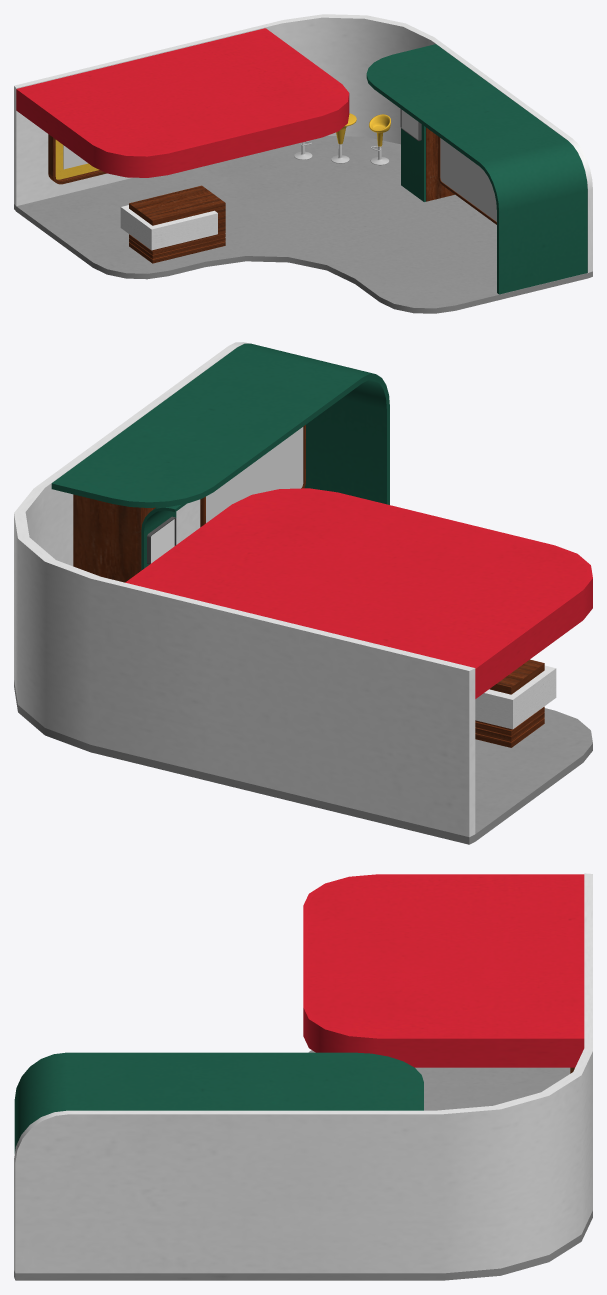
The model's file is booth_REVISI.fbx.
3 views of the same model, one above another, from view 1: azimuth 30°, elevation 25°; view 2: azimuth 150°, elevation 25°; view 3: azimuth 270°, elevation 25° (orthographic). The views are drawn at different scales.
Parts seen in each view (by area): view 1: booth alas MOS ACP, atap, atap kecil, booth dinding MOS ACP, meja informasi, papan gambar MOS, Quiz, Quiz 1.3, bg gambar 1, bingkai kayu, kursi 1.2; view 2: booth dinding MOS ACP, atap, atap kecil, booth alas MOS ACP, Quiz 1.3, meja informasi, papan gambar MOS, Quiz, gambar disini; view 3: booth dinding MOS ACP, atap, atap kecil, booth alas MOS ACP.
Boxes of the visible parts, x1,y1,x2,y2 form: booth alas MOS ACP: [14, 135, 592, 313]; atap: [16, 28, 349, 177]; atap kecil: [366, 44, 587, 294]; booth dinding MOS ACP: [14, 14, 592, 272]; meja informasi: [120, 185, 225, 263]; papan gambar MOS: [440, 138, 496, 221]; Quiz: [401, 124, 425, 201]; Quiz 1.3: [426, 127, 454, 201]; bg gambar 1: [55, 140, 99, 179]; bingkai kayu: [48, 134, 106, 184]; kursi 1.2: [369, 114, 390, 146]; booth dinding MOS ACP: [14, 342, 475, 837]; atap: [125, 488, 592, 698]; atap kecil: [51, 343, 389, 507]; booth alas MOS ACP: [14, 680, 592, 844]; Quiz 1.3: [73, 494, 155, 582]; meja informasi: [475, 659, 556, 747]; papan gambar MOS: [206, 427, 303, 522]; Quiz: [141, 504, 185, 570]; gambar disini: [151, 519, 174, 563]; booth dinding MOS ACP: [14, 873, 592, 1273]; atap: [303, 874, 584, 1067]; atap kecil: [14, 1052, 423, 1153]; booth alas MOS ACP: [14, 1050, 592, 1280].
Size of the model in its own units: 949 by 306 by 964.
